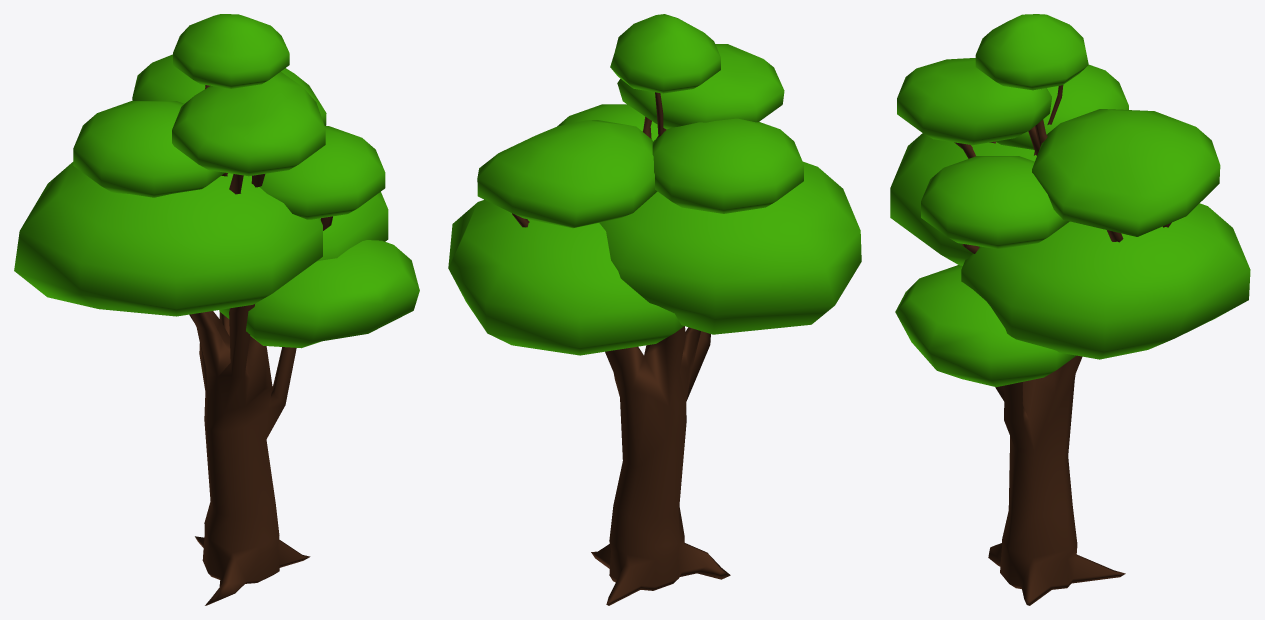
The model's file is SM_Tree_03.fbx.
The picture shows the model from 3 angles, left to right: view 1: azimuth 30°, elevation 25°; view 2: azimuth 150°, elevation 25°; view 3: azimuth 270°, elevation 25°; orthographic projection.
Parts seen in each view (by area): view 1: polySurface18; view 2: polySurface18; view 3: polySurface18.
Boxes of the visible parts, bbox=[...] form: polySurface18: bbox=[14, 14, 419, 605]; polySurface18: bbox=[448, 14, 861, 605]; polySurface18: bbox=[890, 14, 1250, 605].
Size of the model in its own units: 561 by 477 by 822.
